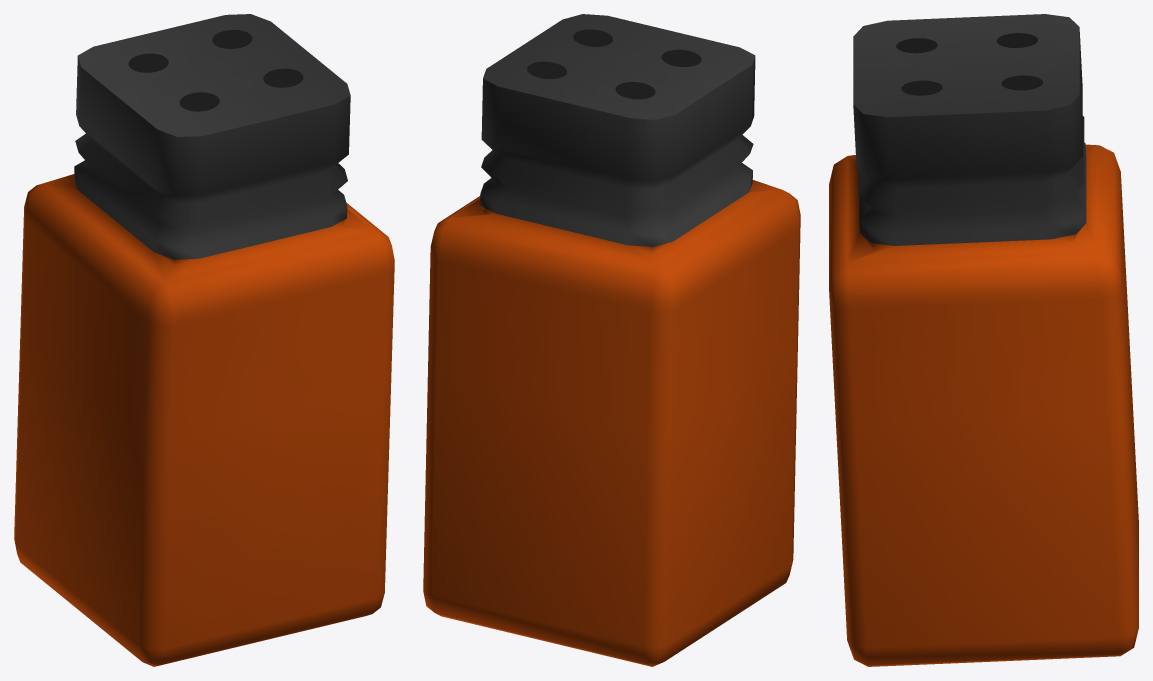
File: brown_pepper.glb
The picture shows the model from 3 angles, left to right: view 1: azimuth 30°, elevation 25°; view 2: azimuth 150°, elevation 25°; view 3: azimuth 270°, elevation 25°; orthographic projection. The views are drawn at different scales.
Parts seen in each view (by area): view 1: brown_pepper; view 2: brown_pepper; view 3: brown_pepper.
Boxes of the visible parts, box(x1,y1,x2,y2) form: brown_pepper: box(14, 14, 394, 666); brown_pepper: box(423, 14, 800, 666); brown_pepper: box(829, 14, 1138, 666).
Bounding box in the file's own units: 0.2937 × 0.6131 × 0.3098.
Materials: 1 (1 with a texture image).
